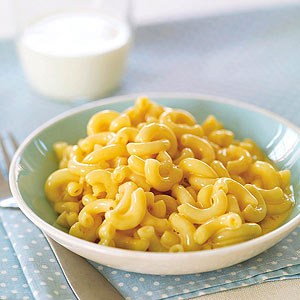macncheese: (44, 97, 296, 254)
